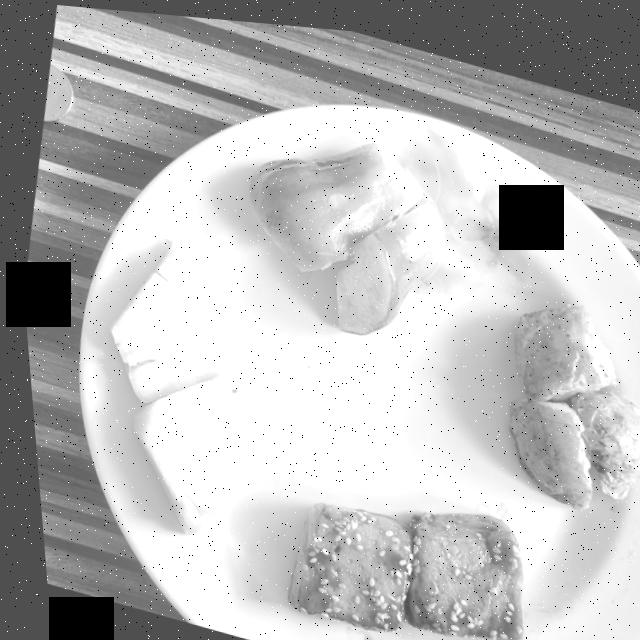coin: (41, 64, 71, 121)
creamy tofu: (277, 497, 514, 633)
fried potato: (502, 295, 640, 499)
pineapple: (104, 237, 250, 532)
